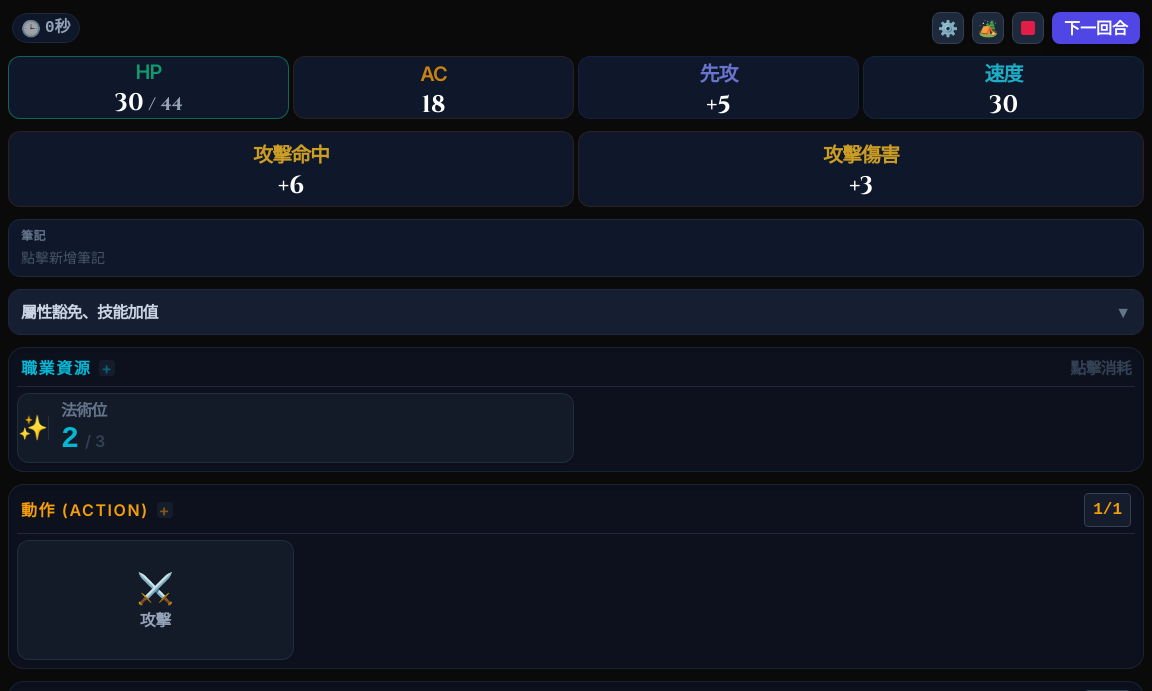
CombatView - 戰鬥筆記功能測試 › 點擊筆記區可開啟 CombatNoteModal（標題為戰鬥筆記）
The image size is (1152, 691).
What coordinates should you click on to do the following:
click the button "筆記 點擊新增筆記"
I would click on:
 (63, 258)
Its box is left=8, top=219, right=1144, bottom=277.
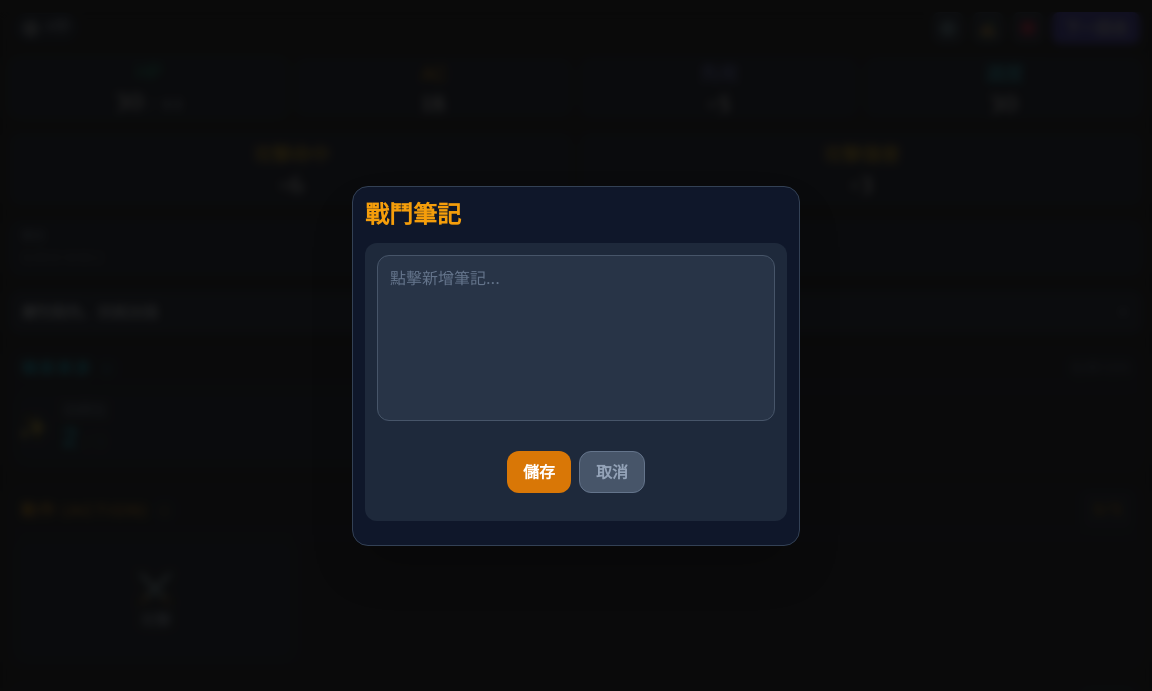
Check: the heading "戰鬥筆記" is shown, box left=365, top=200, right=461, bottom=229
